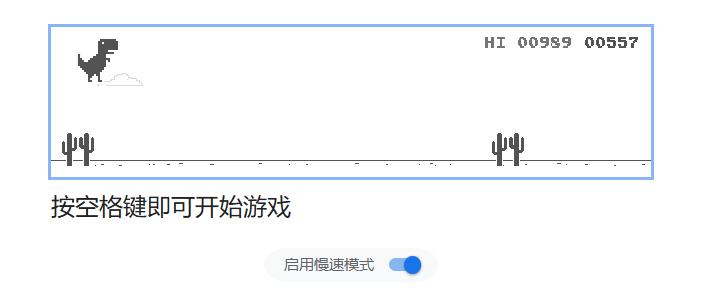cactus: (60, 132, 96, 167), (491, 132, 525, 167)
dino: (76, 38, 118, 83)
